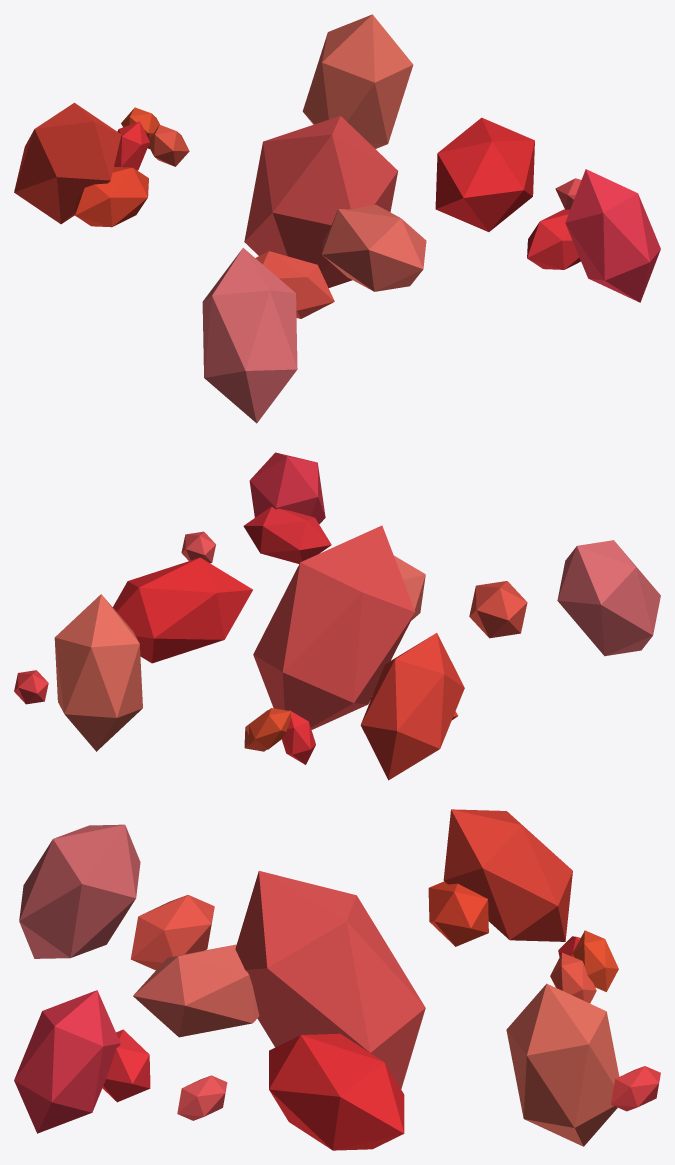
The model's file is Red.fbx.
The picture shows the model from 3 angles, top to bottom: view 1: azimuth 30°, elevation 25°; view 2: azimuth 150°, elevation 25°; view 3: azimuth 270°, elevation 25°; orthographic projection. The views are drawn at different scales.
Parts seen in each view (by area): view 1: Icosphere.006, Icosphere.003, Icosphere.002, Icosphere.009, Icosphere.005, Icosphere.001, Icosphere.007, Icosphere.008, Icosphere.010, Icosphere.004, Icosphere.015, Icosphere.012; view 2: Icosphere.006, Icosphere.002, Icosphere.009, Icosphere.001, Icosphere.003, Icosphere.005, Icosphere.004, Icosphere.010, Icosphere.014, Icosphere.015, Icosphere.011, Icosphere.007 (+1 smaller); view 3: Icosphere.006, Icosphere.002, Icosphere.003, Icosphere.009, Icosphere.001, Icosphere.005, Icosphere.007, Icosphere.010, Icosphere.008, Icosphere.004, Icosphere.014, Icosphere.013 (+2 smaller).
Part boxes in pixels (bbox=[...]): Icosphere.006: bbox=[244, 116, 397, 287]; Icosphere.003: bbox=[202, 248, 297, 423]; Icosphere.002: bbox=[302, 14, 413, 148]; Icosphere.009: bbox=[435, 117, 534, 231]; Icosphere.005: bbox=[565, 169, 660, 302]; Icosphere.001: bbox=[14, 102, 121, 224]; Icosphere.007: bbox=[322, 204, 426, 291]; Icosphere.008: bbox=[75, 166, 148, 227]; Icosphere.010: bbox=[255, 251, 334, 318]; Icosphere.004: bbox=[527, 209, 580, 269]; Icosphere.015: bbox=[114, 121, 149, 170]; Icosphere.012: bbox=[148, 125, 189, 166]; Icosphere.006: bbox=[253, 525, 415, 729]; Icosphere.002: bbox=[54, 594, 142, 751]; Icosphere.009: bbox=[113, 557, 252, 663]; Icosphere.001: bbox=[360, 633, 464, 780]; Icosphere.003: bbox=[557, 540, 660, 656]; Icosphere.005: bbox=[249, 452, 325, 524]; Icosphere.004: bbox=[243, 506, 331, 563]; Icosphere.010: bbox=[469, 581, 527, 638]; Icosphere.014: bbox=[248, 708, 290, 749]; Icosphere.015: bbox=[282, 710, 315, 764]; Icosphere.011: bbox=[14, 670, 48, 704]; Icosphere.007: bbox=[394, 555, 425, 620]; Icosphere.006: bbox=[235, 871, 425, 1088]; Icosphere.002: bbox=[506, 983, 619, 1146]; Icosphere.003: bbox=[19, 824, 140, 958]; Icosphere.009: bbox=[269, 1033, 404, 1150]; Icosphere.001: bbox=[443, 809, 572, 941]; Icosphere.005: bbox=[14, 990, 120, 1133]; Icosphere.007: bbox=[133, 944, 259, 1037]; Icosphere.010: bbox=[130, 895, 214, 970]; Icosphere.008: bbox=[428, 881, 488, 946]; Icosphere.004: bbox=[102, 1029, 150, 1102]; Icosphere.014: bbox=[572, 930, 618, 991]; Icosphere.013: bbox=[177, 1075, 227, 1120].
Bounding box in the file's own units: 613 × 257 × 696.
